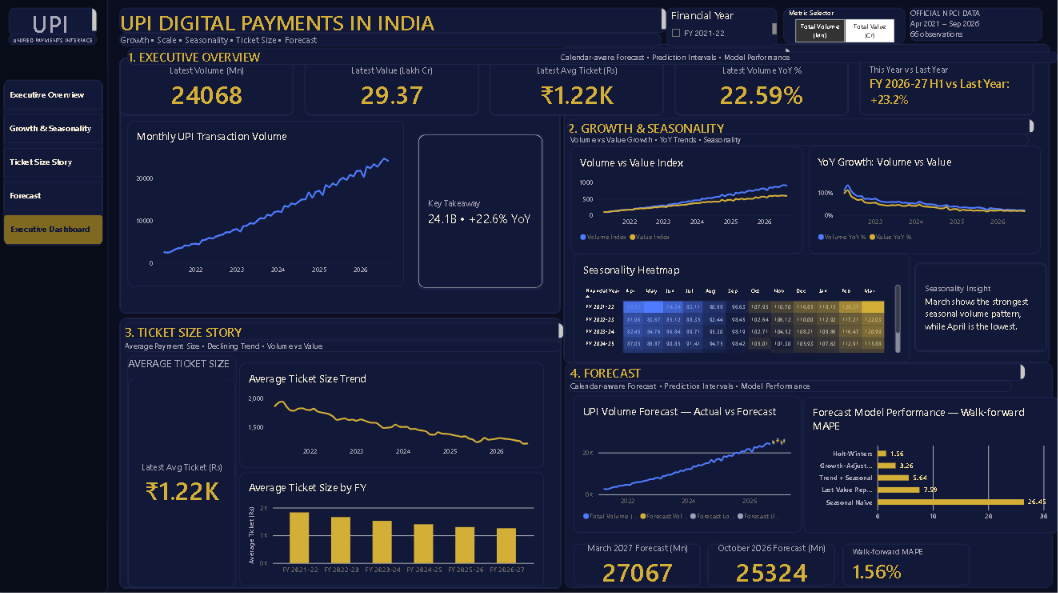

What the dashboard file says about the page in this screenshot:
{"tool":"powerbi","page":{"name":" Executive Dashboard","canvas":[1920,1080],"ordinal":4},"visuals":[{"type":"shape","box":[1025,85,880,578.3],"z":0},{"type":"shape","box":[220,580,800,490],"z":1000},{"type":"shape","box":[220,110,798.3,463.3],"z":2000},{"type":"shape","box":[0,0,200,1080],"z":3000},{"type":"textbox","box":[20,20,160,50],"z":4000},{"type":"textbox","box":[20,67,160,20],"z":5000},{"type":"pageNavigator","box":[10,150,180,300],"z":6000},{"type":"textbox","box":[220,20,990,45],"z":7000},{"type":"textbox","box":[220,65,980,25],"z":8000},{"type":"textbox","box":[1650,20,240,60],"z":9000},{"type":"cardVisual","fields":{"Data":["_Measures.Latest Volume (Mn)"]},"box":[220,110,315,105],"z":10000},{"type":"cardVisual","fields":{"Data":["_Measures.Latest Value (Lakh Cr)"]},"box":[555,110,315,105],"z":11000},{"type":"cardVisual","fields":{"Data":["_Measures.Latest Avg Ticket (Rs)"]},"box":[890,110,315,105],"z":12000},{"type":"cardVisual","fields":{"Data":["_Measures.Latest Volume YoY %"]},"box":[1225,110,315,105],"z":13000},{"type":"cardVisual","fields":{"Data":["_Measures.This Year vs Last Year"]},"box":[1560.4,105.7,315.1,109.4],"z":14000},{"type":"textbox","box":[235,92,1200,30],"z":15000},{"type":"lineChart","fields":{"Category":["DimDate.Date"],"Y":["_Measures.Total Value (Cr)"]},"box":[235,225,500,300],"z":16000},{"type":"slicer","fields":{"Values":["Metric Selector.Metric Selector"]},"box":[1422,20,220,65],"z":17000},{"type":"cardVisual","fields":{"Data":["_Measures.Home Executive Takeaway"]},"box":[760,248.3,228.3,281.7],"z":18000},{"type":"lineChart","title":"Volume vs Value Index","fields":{"Category":["DimDate.Date"],"Y":["_Measures.Volume Index","_Measures.Value Index"]},"box":[1037,271.4,420,193.6],"z":19000},{"type":"lineChart","title":"YoY Growth: Volume vs Value","fields":{"Category":["DimDate.Date"],"Y":["_Measures.Volume YoY %","_Measures.Value YoY %"]},"box":[1467,269.6,420,195.4],"z":20000},{"type":"textbox","box":[1032,220,845,28.3],"z":21000},{"type":"textbox","box":[1035,248.3,830,21.7],"z":22000},{"type":"pivotTable","title":" Seasonality Heatmap","fields":{"Columns":["DimDate.Month Name"],"Rows":["DimDate.Financial Year"],"Values":["_Measures.Seasonality Index"]},"box":[1041.7,465,608.3,196.7],"z":23000},{"type":"slicer","fields":{"Values":["DimDate.Financial Year"]},"box":[1210,20,200,70],"z":24000},{"type":"cardVisual","fields":{"Data":["_Measures.Seasonality Insight"]},"box":[1659,481.4,240,161.7],"z":25000},{"type":"textbox","box":[230,590,795,30],"z":26000},{"type":"textbox","box":[230,622,790,20],"z":27000},{"type":"cardVisual","title":"AVERAGE TICKET SIZE","fields":{"Data":["_Measures.Latest Avg Ticket (Rs)"]},"box":[235,650,196.7,420],"z":28000},{"type":"lineChart","title":"Average Ticket Size Trend","fields":{"Category":["DimDate.Date"],"Y":["_Measures.Average Ticket Trend (Rs)"]},"box":[438.3,661.7,550,190],"z":29000},{"type":"clusteredColumnChart","title":"Average Ticket Size by FY","fields":{"Category":["DimDate.Financial Year"],"Y":["_Measures.Average Ticket Trend (Rs)"]},"box":[438.3,860,550,207],"z":30000},{"type":"shape","box":[1026.1,662.3,883.1,407.2],"z":31000},{"type":"textbox","box":[1035,695,800,20],"z":32000},{"type":"textbox","box":[1035,665,825,30],"z":33000},{"type":"textbox","box":[1019,100,900,20],"z":34000},{"type":"lineChart","title":"UPI Volume Forecast — Actual vs Forecast","fields":{"Category":["DimDate.Date"],"Y":["_Measures.Total Volume (Mn)","_Measures.Forecast Volume (Mn)","_Measures.Forecast Lower (Mn)","_Measures.Forecast Upper (Mn)"]},"box":[1042.4,722.1,411.7,248.3],"z":35000},{"type":"cardVisual","fields":{"Data":["_Measures.March 2027 Forecast (Mn)"]},"box":[1042.4,989.9,230,76],"z":36000},{"type":"cardVisual","fields":{"Data":["_Measures.October 2026 Forecast (Mn)"]},"box":[1284.9,989.9,230,76],"z":37000},{"type":"cardVisual","fields":{"Data":["_Measures.Home MAPE Display"]},"box":[1529.2,989.9,230,76],"z":38000},{"type":"clusteredBarChart","title":"Forecast Model Performance — Walk-forward MAPE","fields":{"Category":["Forecast Models.Model"],"Y":["_Measures.Forecast Model MAPE %"]},"box":[1458.6,723.9,462,246],"z":39000}]}

Visuals, with their boxes on the page's 1920x1080 design canvas (x1, y1, x2, y2). These are canvas units, not pixel positions in the 1058x593 screenshot, which may show the page scaled, cropped or inside an application window:
shape: x1=1025, y1=85, x2=1905, y2=663
shape: x1=220, y1=580, x2=1020, y2=1070
shape: x1=220, y1=110, x2=1018, y2=573
shape: x1=0, y1=0, x2=200, y2=1080
textbox: x1=20, y1=20, x2=180, y2=70
textbox: x1=20, y1=67, x2=180, y2=87
pageNavigator: x1=10, y1=150, x2=190, y2=450
textbox: x1=220, y1=20, x2=1210, y2=65
textbox: x1=220, y1=65, x2=1200, y2=90
textbox: x1=1650, y1=20, x2=1890, y2=80
cardVisual - _Measures.Latest Volume (Mn): x1=220, y1=110, x2=535, y2=215
cardVisual - _Measures.Latest Value (Lakh Cr): x1=555, y1=110, x2=870, y2=215
cardVisual - _Measures.Latest Avg Ticket (Rs): x1=890, y1=110, x2=1205, y2=215
cardVisual - _Measures.Latest Volume YoY %: x1=1225, y1=110, x2=1540, y2=215
cardVisual - _Measures.This Year vs Last Year: x1=1560, y1=106, x2=1876, y2=215
textbox: x1=235, y1=92, x2=1435, y2=122
lineChart - DimDate.Date x _Measures.Total Value (Cr): x1=235, y1=225, x2=735, y2=525
slicer - Metric Selector.Metric Selector: x1=1422, y1=20, x2=1642, y2=85
cardVisual - _Measures.Home Executive Takeaway: x1=760, y1=248, x2=988, y2=530
"Volume vs Value Index" lineChart: x1=1037, y1=271, x2=1457, y2=465
"YoY Growth: Volume vs Value" lineChart: x1=1467, y1=270, x2=1887, y2=465
textbox: x1=1032, y1=220, x2=1877, y2=248
textbox: x1=1035, y1=248, x2=1865, y2=270
" Seasonality Heatmap" pivotTable: x1=1042, y1=465, x2=1650, y2=662
slicer - DimDate.Financial Year: x1=1210, y1=20, x2=1410, y2=90
cardVisual - _Measures.Seasonality Insight: x1=1659, y1=481, x2=1899, y2=643
textbox: x1=230, y1=590, x2=1025, y2=620
textbox: x1=230, y1=622, x2=1020, y2=642
"AVERAGE TICKET SIZE" cardVisual: x1=235, y1=650, x2=432, y2=1070
"Average Ticket Size Trend" lineChart: x1=438, y1=662, x2=988, y2=852
"Average Ticket Size by FY" clusteredColumnChart: x1=438, y1=860, x2=988, y2=1067
shape: x1=1026, y1=662, x2=1909, y2=1070
textbox: x1=1035, y1=695, x2=1835, y2=715
textbox: x1=1035, y1=665, x2=1860, y2=695
textbox: x1=1019, y1=100, x2=1919, y2=120
"UPI Volume Forecast — Actual vs Forecast" lineChart: x1=1042, y1=722, x2=1454, y2=970
cardVisual - _Measures.March 2027 Forecast (Mn): x1=1042, y1=990, x2=1272, y2=1066
cardVisual - _Measures.October 2026 Forecast (Mn): x1=1285, y1=990, x2=1515, y2=1066
cardVisual - _Measures.Home MAPE Display: x1=1529, y1=990, x2=1759, y2=1066
"Forecast Model Performance — Walk-forward MAPE" clusteredBarChart: x1=1459, y1=724, x2=1921, y2=970
